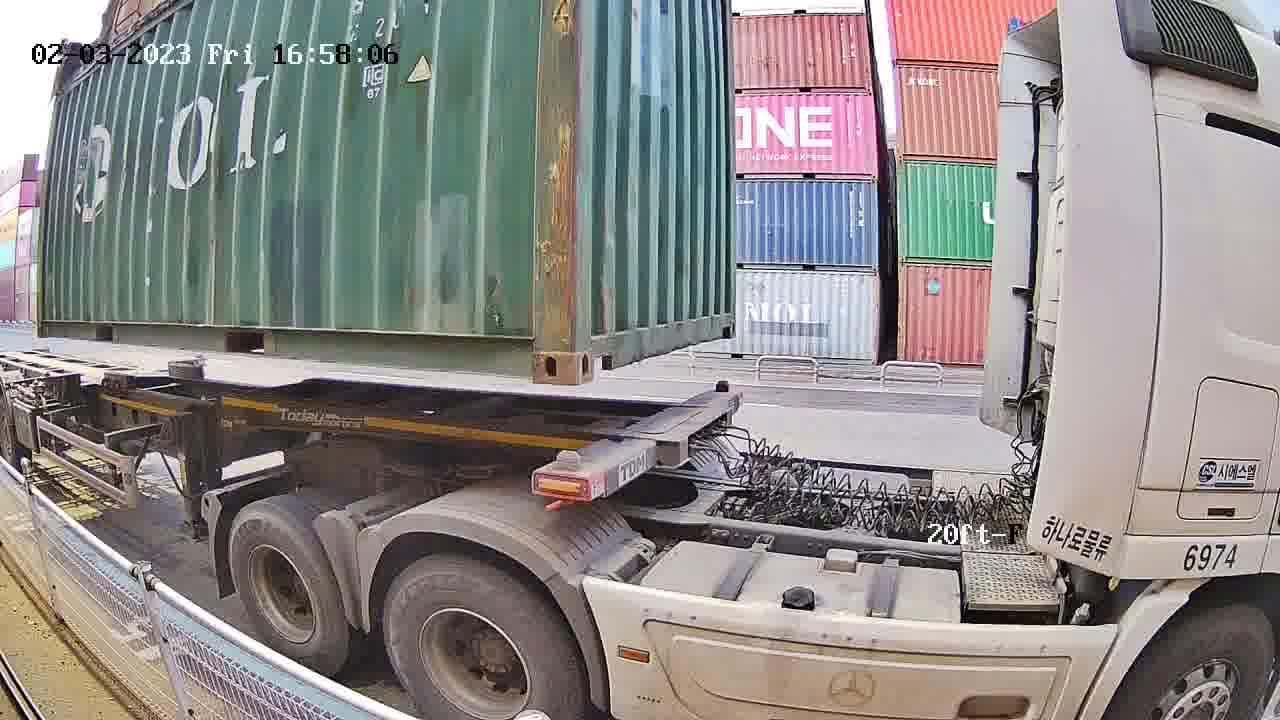Chassis: (535, 390, 746, 501)
Cone: (538, 448, 588, 515), (709, 375, 733, 397)
Hole_L: (576, 307, 627, 384)
Hole_R: (495, 307, 576, 383), (714, 300, 737, 338)
Tire: (383, 557, 583, 717), (227, 504, 344, 678)
